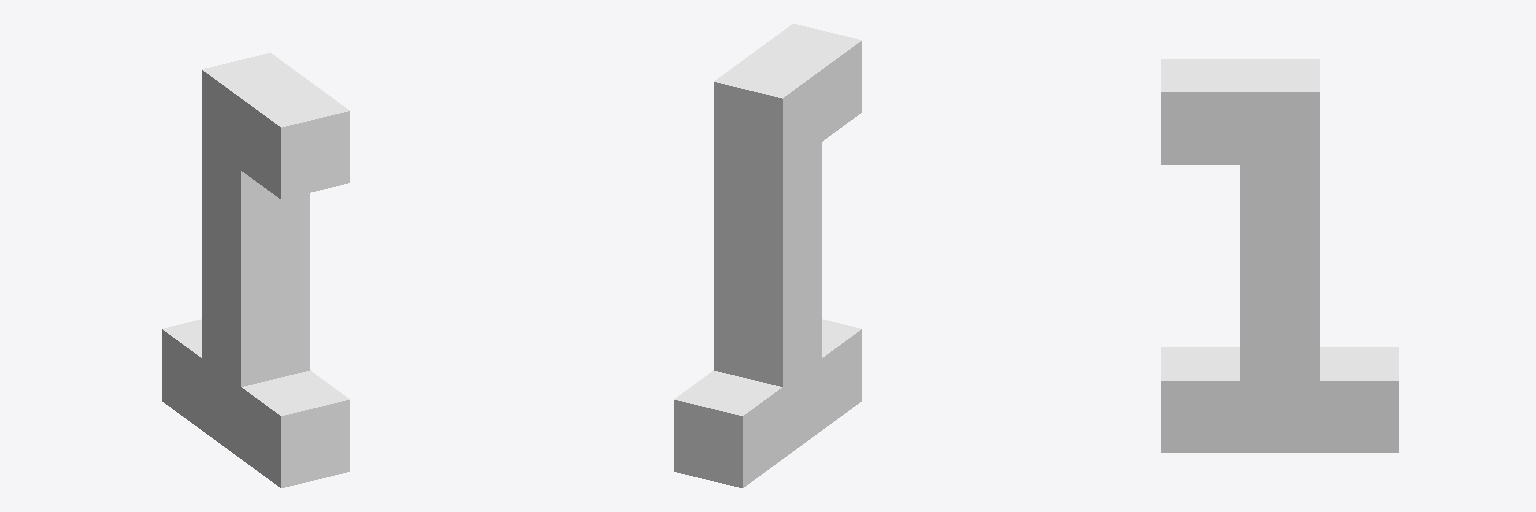
Rendered from nowruz-display-9.obj.
3 views of the same model, side by side, from view 1: azimuth 30°, elevation 25°; view 2: azimuth 150°, elevation 25°; view 3: azimuth 270°, elevation 25° (orthographic).
Visible parts, largest first — view 1: object 1; view 2: object 1; view 3: object 1.
Boxes of the visible parts, <box> form: object 1: <box>162,53,349,487</box>; object 1: <box>674,24,861,487</box>; object 1: <box>1161,59,1398,452</box>.
Bounding box in the file's own units: 0.1 × 0.5 × 0.3.